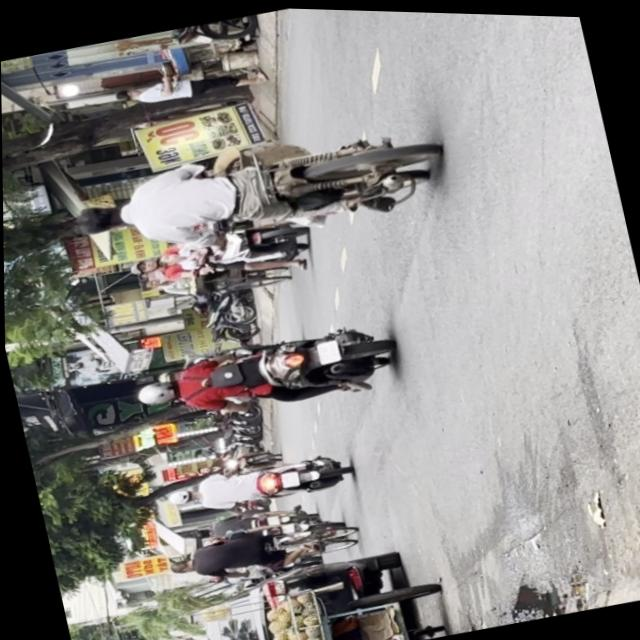helmet: (130, 375, 176, 408), (123, 254, 161, 278)
licenseplate: (60, 97, 453, 278), (125, 307, 401, 437), (120, 209, 316, 301)
motorcyclist: (69, 196, 129, 239), (150, 248, 182, 267)
nohelmet: (313, 337, 339, 363)
